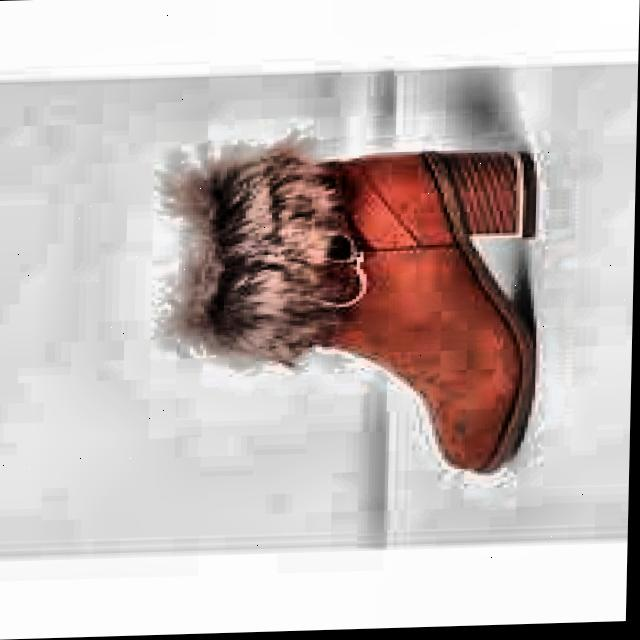shoes: (134, 78, 615, 536)
